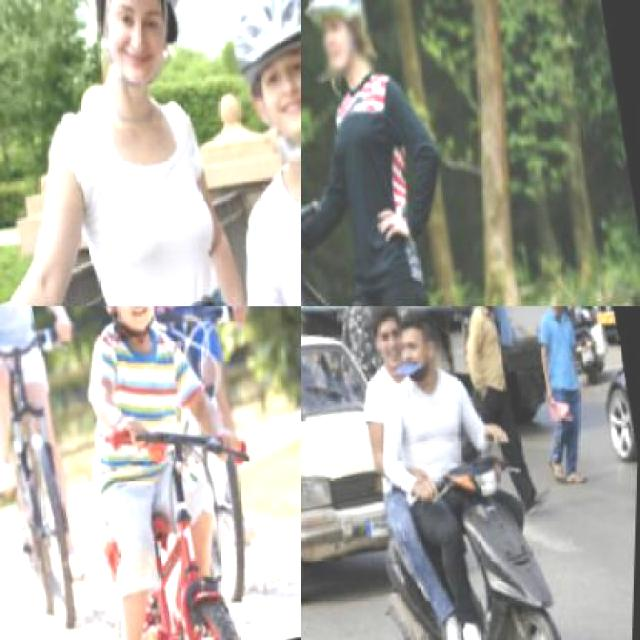With Helmet: (68, 0, 208, 120), (212, 0, 298, 175), (302, 0, 383, 85), (74, 306, 181, 345)
Without Helmet: (393, 307, 442, 368), (363, 306, 409, 362)
